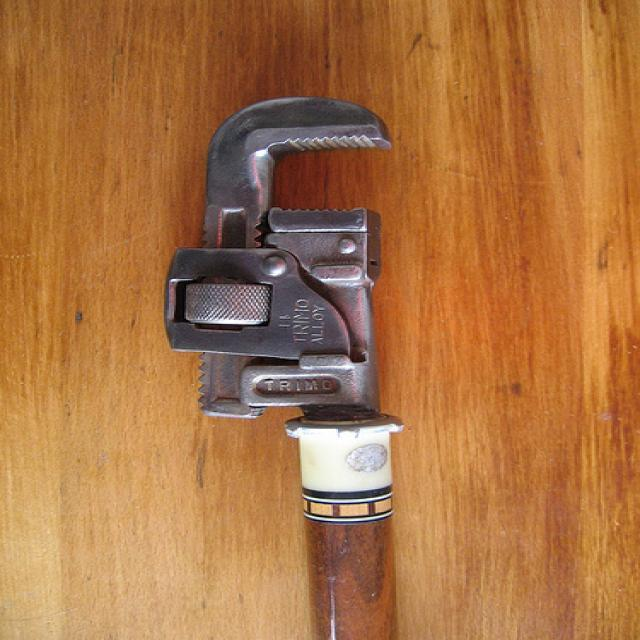wrench: (160, 77, 460, 626)
